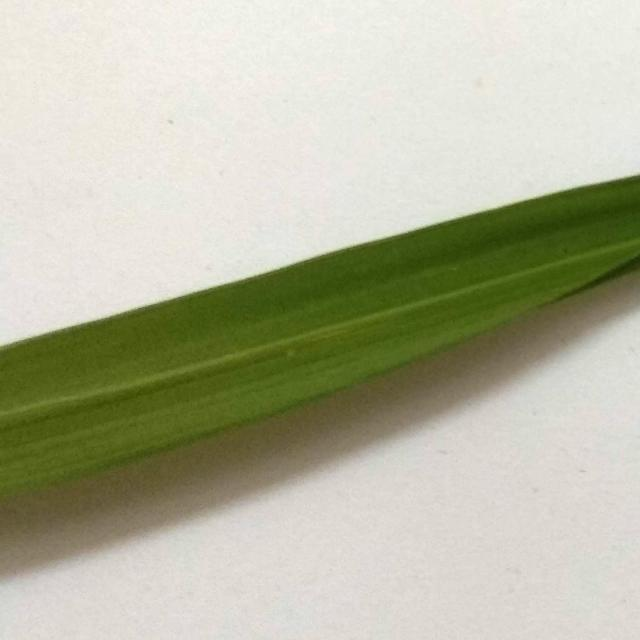healthy: (0, 164, 640, 522)
